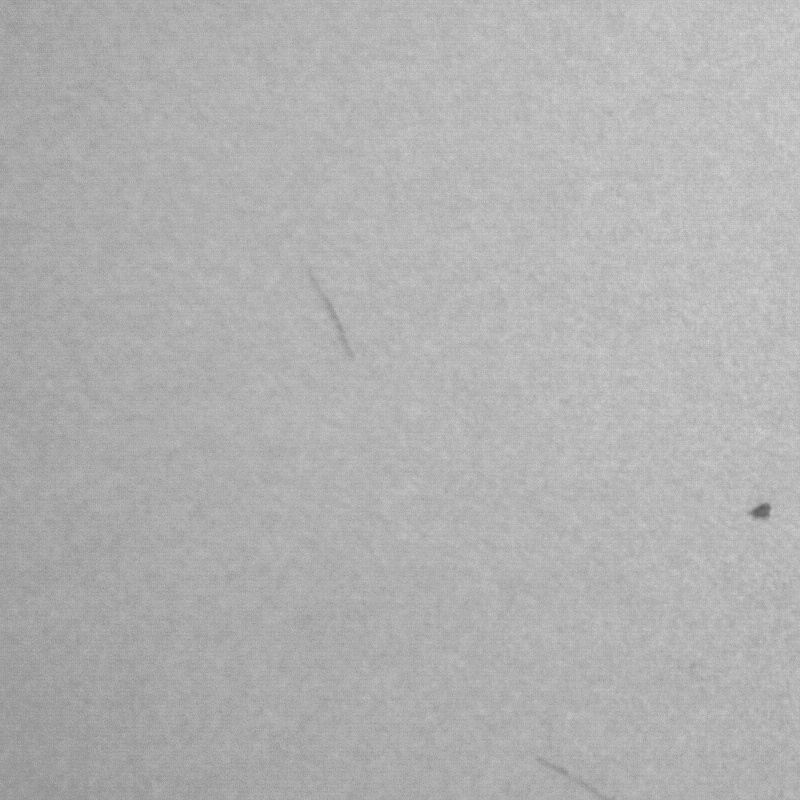defect: (310, 275, 362, 367), (540, 761, 616, 800), (752, 494, 775, 523)
